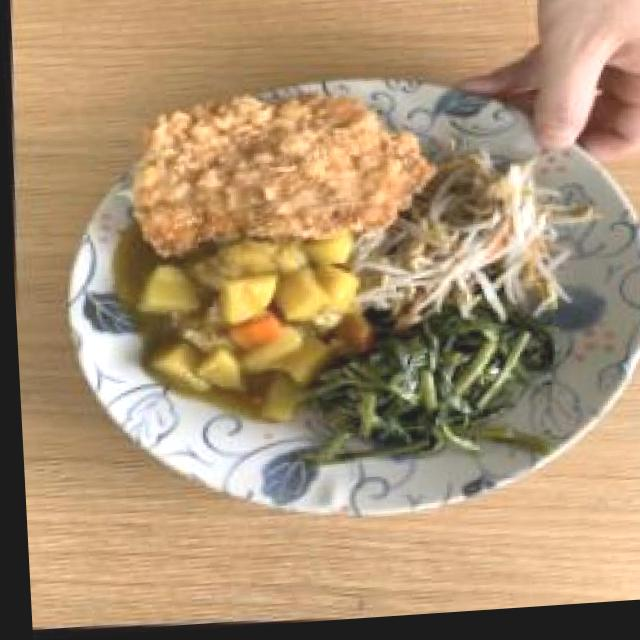curry: (126, 252, 366, 387)
fried_chicken: (129, 86, 429, 261)
mung_bean_sprouts: (383, 180, 552, 313)
water_spinach: (327, 312, 553, 469)
